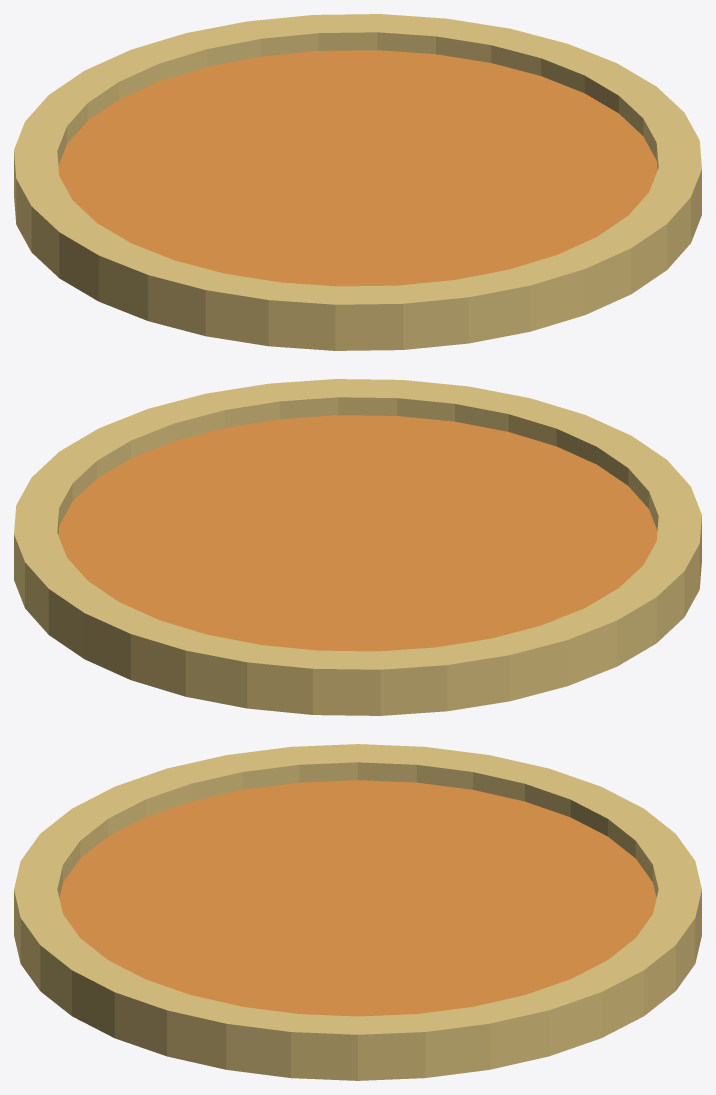
File: pizza.glb
3 views of the same model, one above another, from view 1: azimuth 30°, elevation 25°; view 2: azimuth 150°, elevation 25°; view 3: azimuth 270°, elevation 25° (orthographic).
Visible parts, largest first — view 1: Cheese, Dough; view 2: Cheese, Dough; view 3: Cheese, Dough.
Part boxes in pixels (<box>): Cheese: <box>58,50,657,286</box>; Dough: <box>14,14,701,350</box>; Cheese: <box>58,415,657,651</box>; Dough: <box>14,379,701,715</box>; Cheese: <box>59,780,656,1016</box>; Dough: <box>14,744,701,1080</box>.
Bounding box in the file's own units: 2 × 0.1479 × 2.
